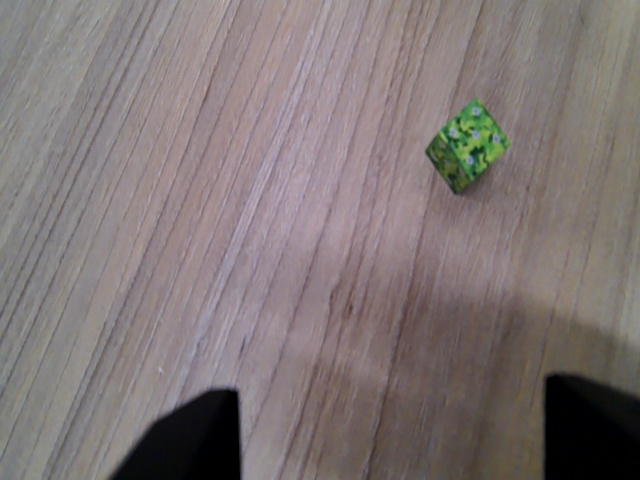grass: (423, 98, 510, 193)
